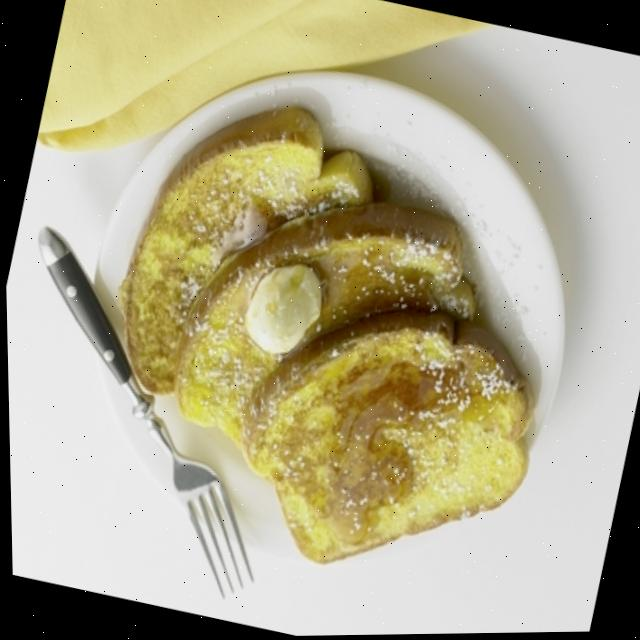面包点心: (29, 30, 610, 626)
